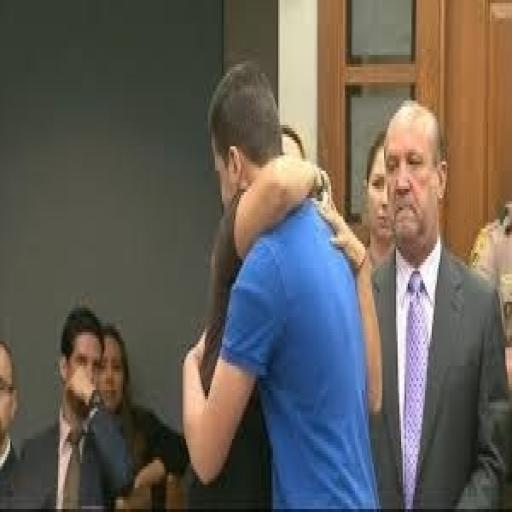hugging: (179, 58, 384, 509)
